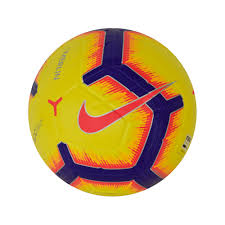top: (27, 27, 204, 200)
